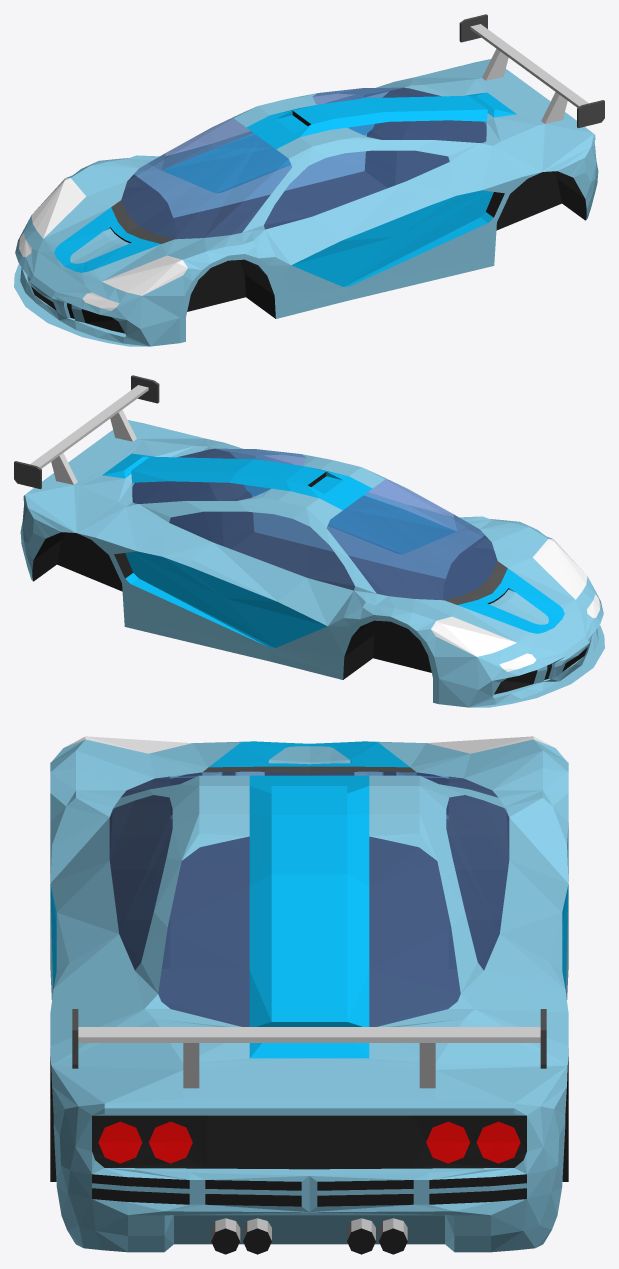
Rendered from MacRaren.fbx.
3 renders of one model, top to bottom at view 1: azimuth 30°, elevation 25°; view 2: azimuth 150°, elevation 25°; view 3: azimuth 270°, elevation 25°, orthographic. The views are drawn at different scales.
Parts seen in each view (by area): view 1: _(Loose Entity); view 2: _(Loose Entity); view 3: _(Loose Entity).
Boxes of the visible parts, box(x1,y1,x2,y2) form: _(Loose Entity): box(14, 14, 604, 346); _(Loose Entity): box(14, 375, 604, 707); _(Loose Entity): box(50, 736, 568, 1254).
Size of the model in its own units: 377 by 93.23 by 164.
